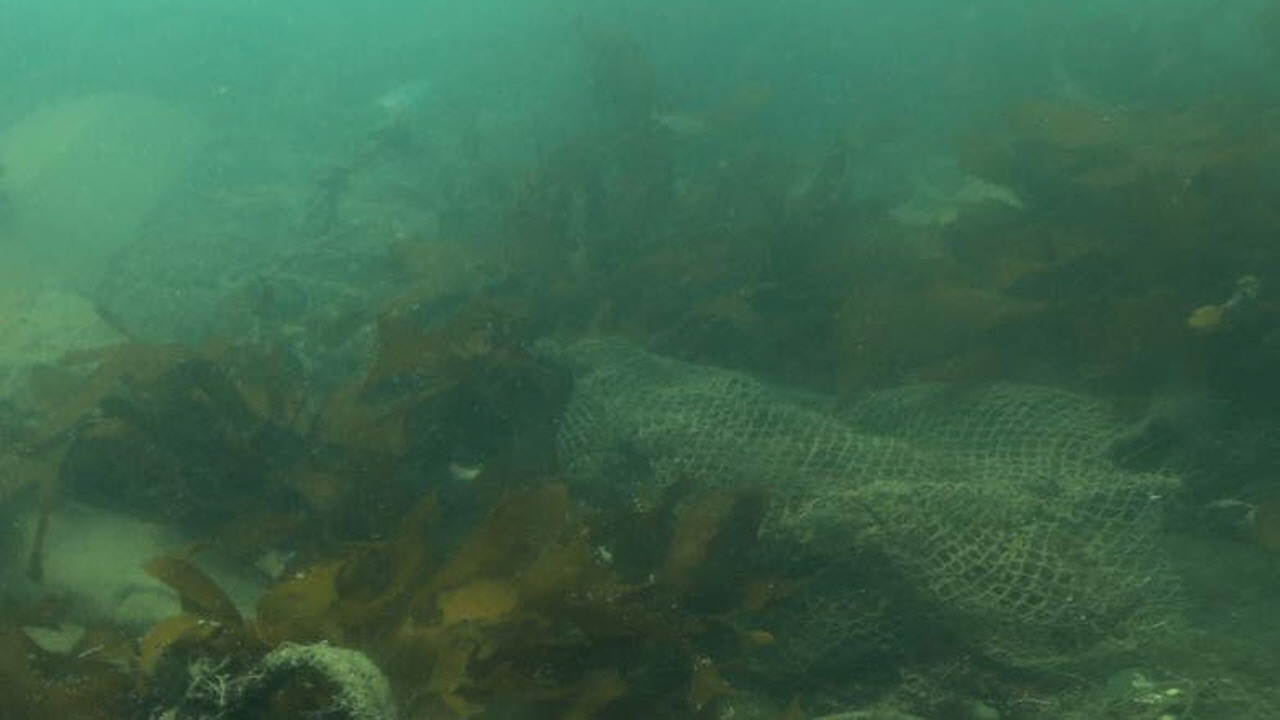fish net: (559, 334, 1185, 675)
